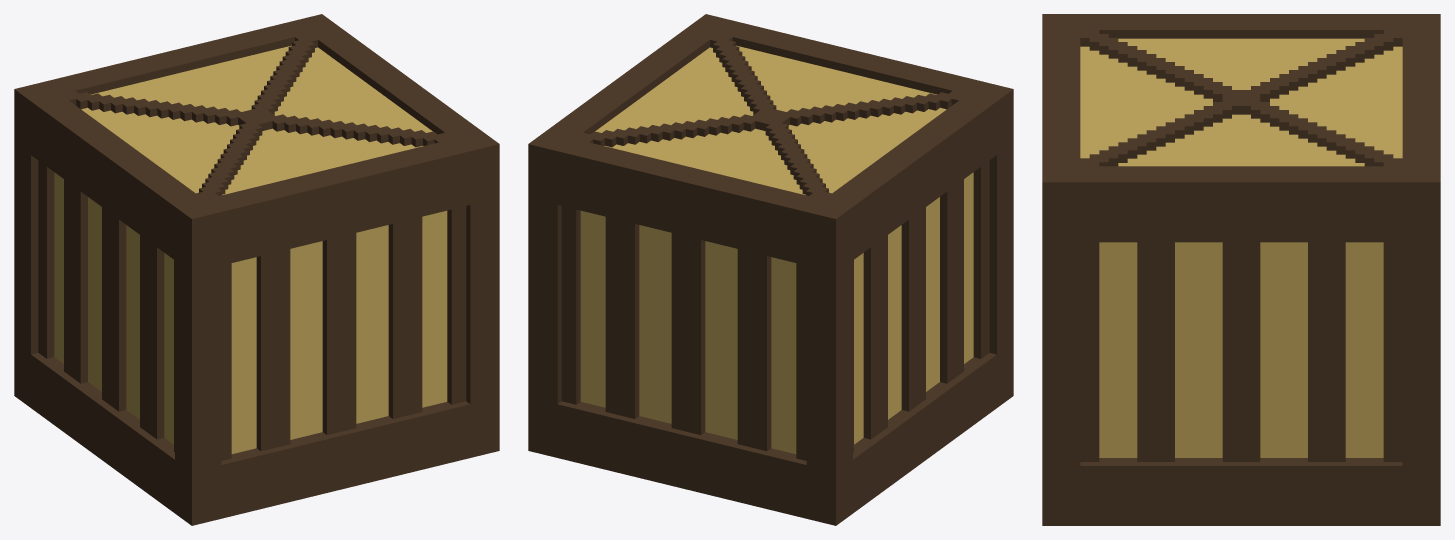
File: crate.obj
3 renders of one model, left to right at view 1: azimuth 30°, elevation 25°; view 2: azimuth 150°, elevation 25°; view 3: azimuth 270°, elevation 25°, orthographic. The views are drawn at different scales.
Parts seen in each view (by area): view 1: crate; view 2: crate; view 3: crate.
Part boxes in pixels (x1,y1,x2,y2): crate: (14, 14, 499, 525); crate: (528, 14, 1013, 525); crate: (1042, 14, 1440, 525).
Size of the model in its own units: 42 by 40 by 42.
1 material, 1 textured.
